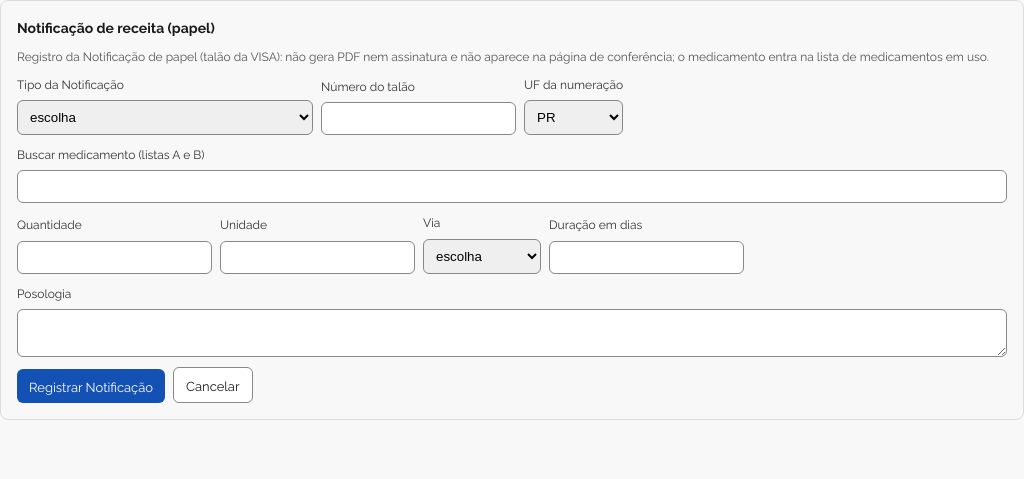
Test: NotificationRecordForm › recusa item_not_in_notification_list do api fica no formulário, que fica preenchido
The width and height of the screenshot is (1024, 479).
Type "Clonaz" into the field labelled "Buscar medicamento (listas A e B)".
click(512, 187); type("Clonaz")  # box x1=17 y1=170 x2=1007 y2=204
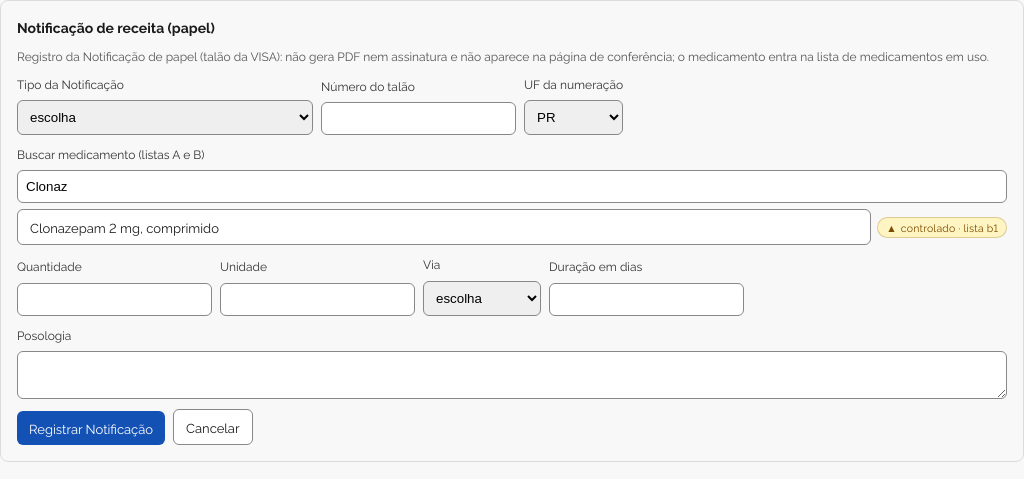
Click the button "Clonazepam 2 mg, comprimido".
click(124, 227)  # box x1=17 y1=210 x2=871 y2=246
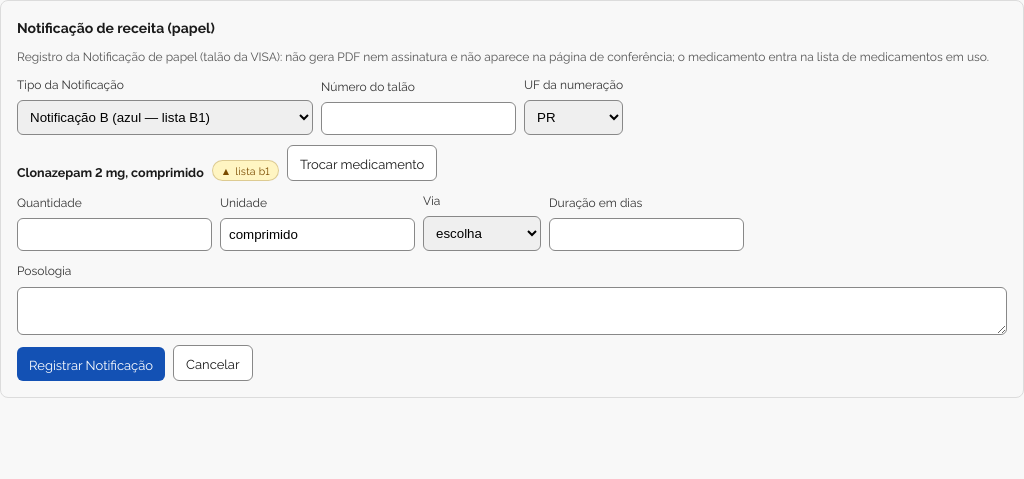
Type "PR0012345" into the field labelled "Número do talão".
click(418, 119); type("PR0012345")  # box x1=321 y1=102 x2=516 y2=135
Type "30" into the field labelled "Quantidade".
click(114, 235); type("30")  # box x1=17 y1=218 x2=212 y2=252
Select "oral" in the dropdown labelled "Via" at {"x": 482, "y": 234}, box x1=423 y1=216 x2=541 y2=252
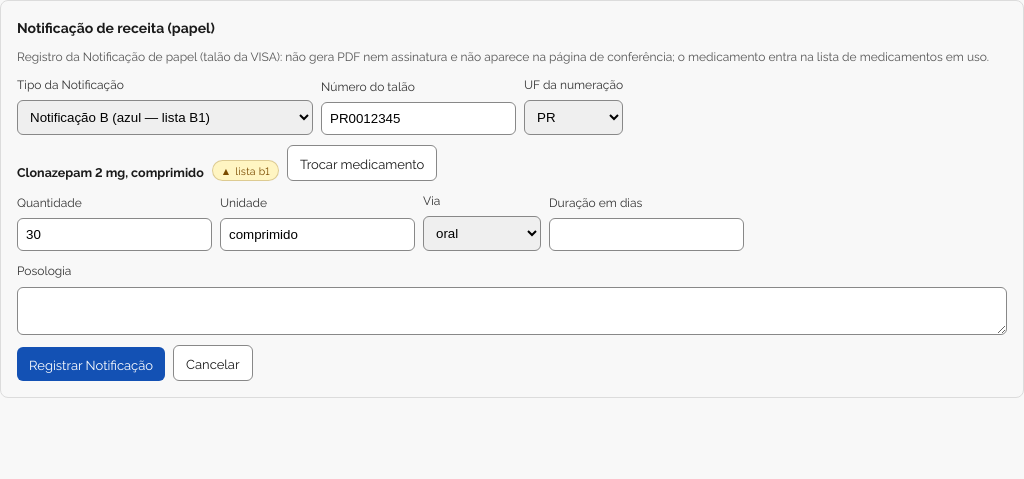
Type "30" into the field labelled "Duração em dias".
click(646, 235); type("30")  # box x1=549 y1=218 x2=744 y2=252
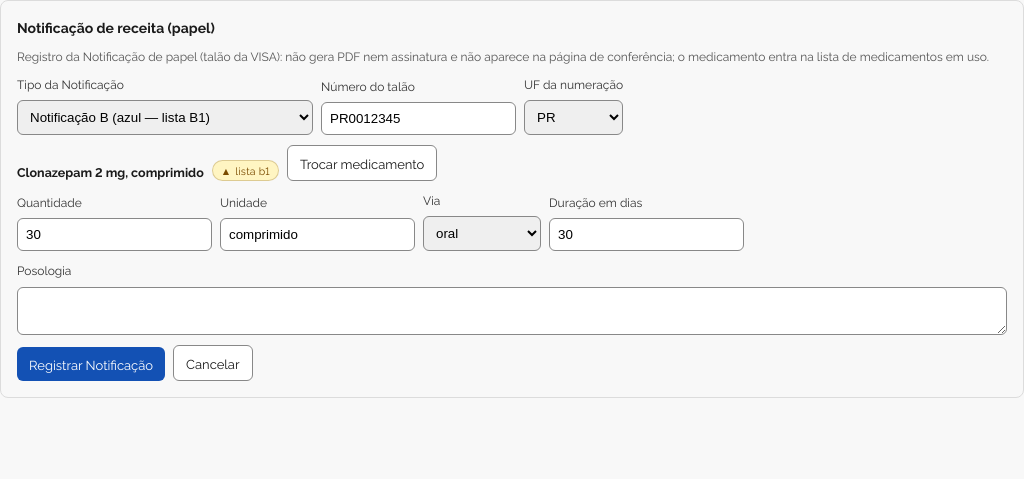
Type "1 comprimido à noite" into the text box labelled "Posologia".
click(512, 311); type("1 comprimido à noite")  # box x1=17 y1=287 x2=1007 y2=335
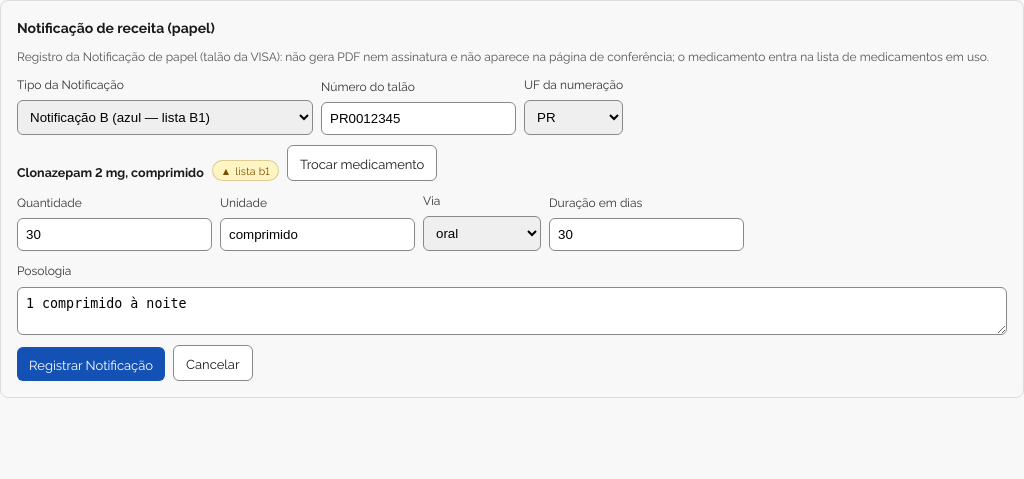
Click the button "Registrar Notificação".
click(91, 364)  # box x1=17 y1=347 x2=165 y2=381
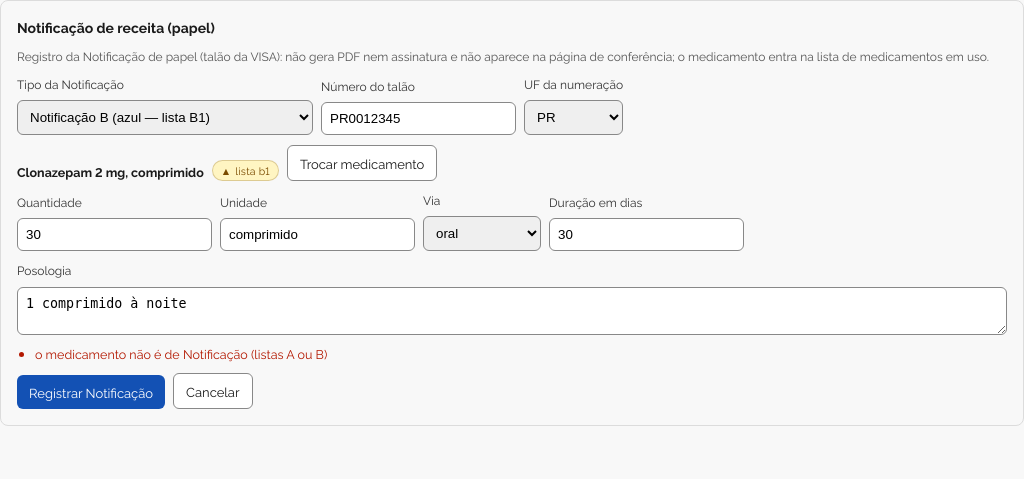
Check: the message reads "o medicamento não é de Notificação (listas A ou B)", box x1=35 y1=345 x2=327 y2=362
